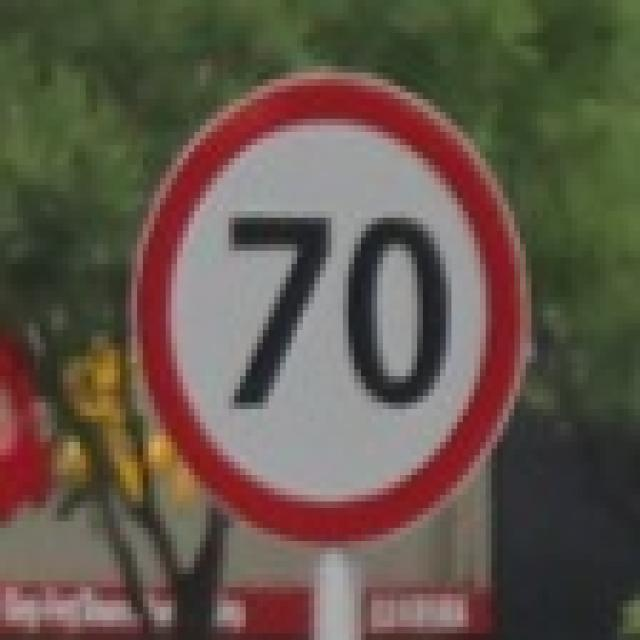Speed Limit -70-: (220, 206, 452, 416)
